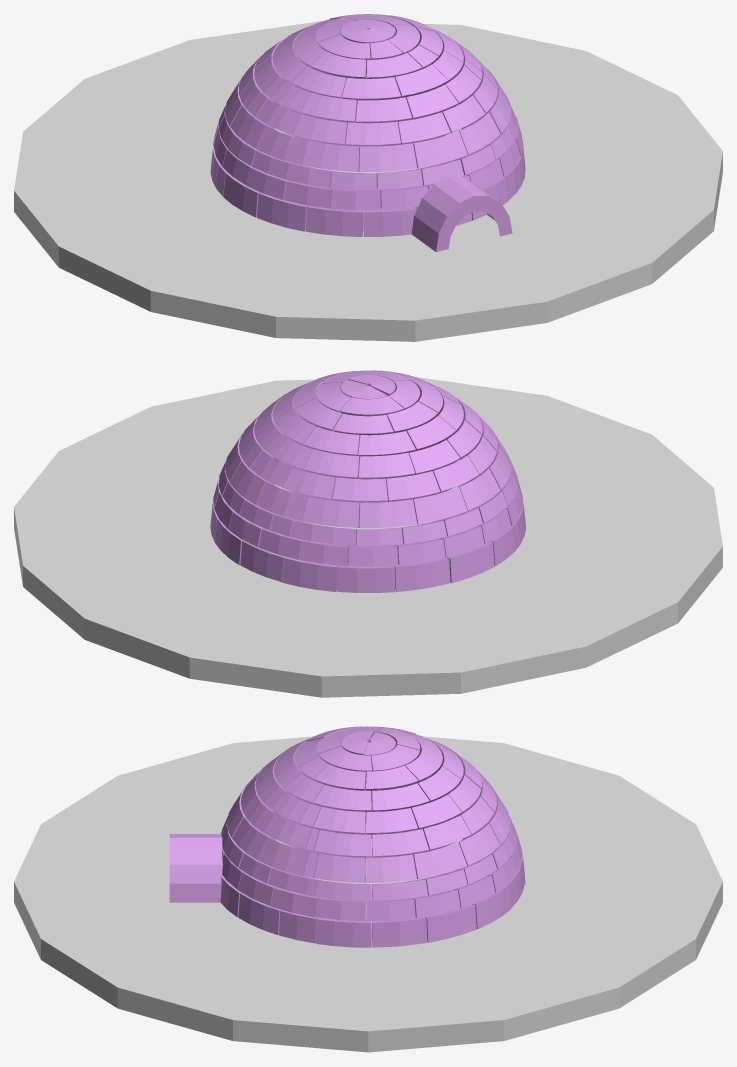
File: igloo1.fbx
The picture shows the model from 3 angles, top to bottom: view 1: azimuth 30°, elevation 25°; view 2: azimuth 150°, elevation 25°; view 3: azimuth 270°, elevation 25°; orthographic projection.
Parts seen in each view (by area): view 1: Cylinder.001, Wall.002, Cylinder; view 2: Cylinder.001, Wall.002; view 3: Cylinder.001, Wall.002, Cylinder.
Boxes of the visible parts, x1=… form: Cylinder.001: x1=14, y1=21, x2=722, y2=341; Wall.002: x1=210, y1=14, x2=525, y2=236; Cylinder: x1=411, y1=165, x2=512, y2=251; Cylinder.001: x1=14, y1=377, x2=722, y2=697; Wall.002: x1=210, y1=370, x2=525, y2=592; Cylinder.001: x1=14, y1=736, x2=722, y2=1052; Wall.002: x1=220, y1=726, x2=525, y2=947; Cylinder: x1=169, y1=834, x2=223, y2=902.
Size of the model in its own units: 7260 by 1832 by 7260.
